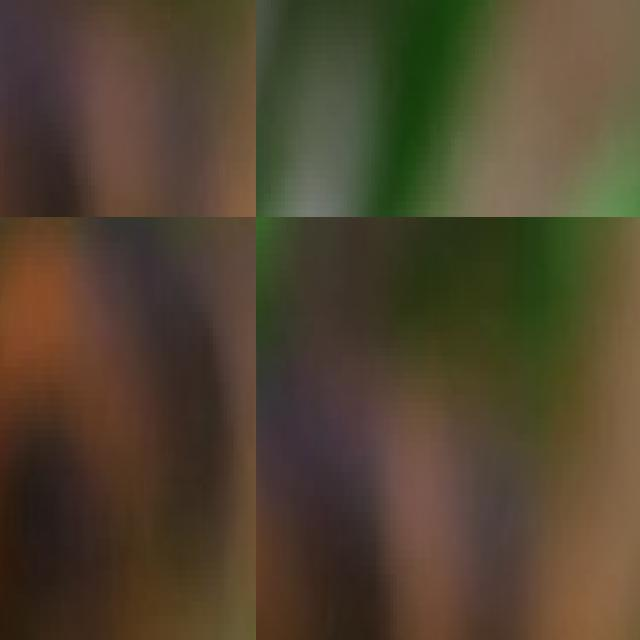fish: (0, 217, 256, 640), (0, 0, 256, 217)
